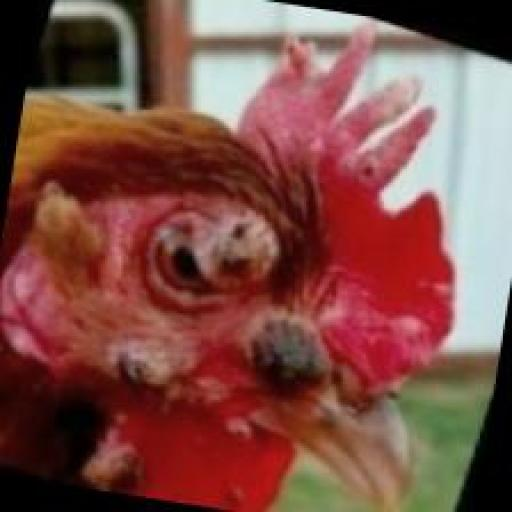disease: (257, 6, 453, 204), (227, 268, 372, 418), (67, 298, 220, 412), (180, 174, 313, 298), (48, 409, 174, 493)
